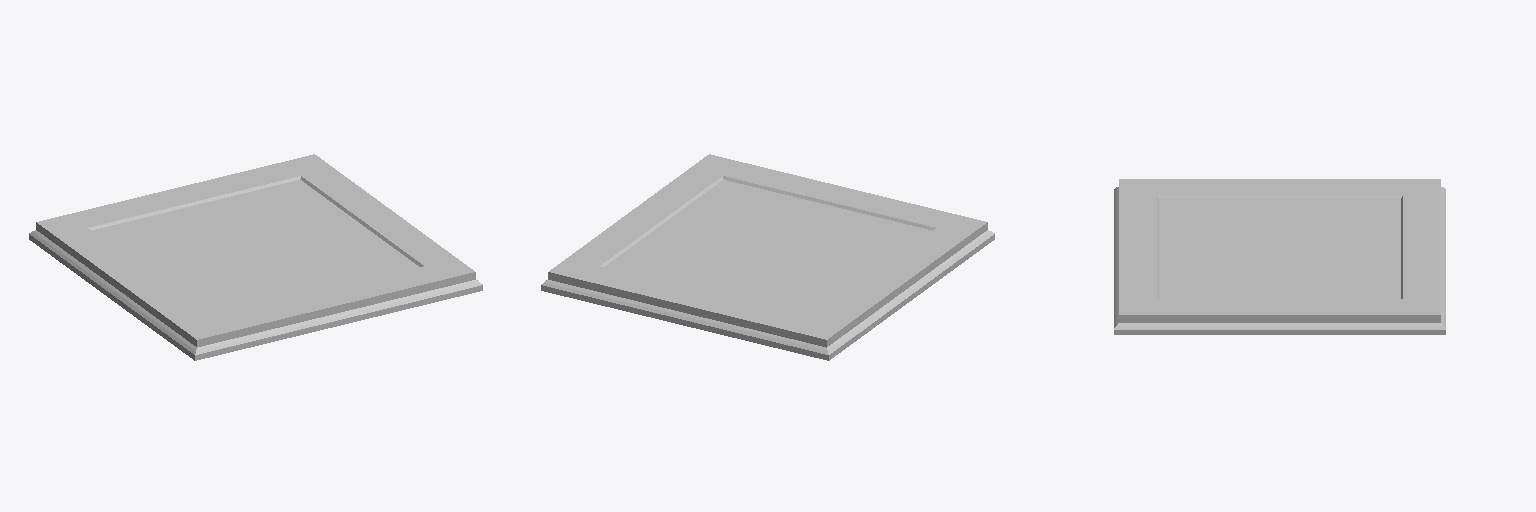
File: border.obj
The picture shows the model from 3 angles: view 1: azimuth 30°, elevation 25°; view 2: azimuth 150°, elevation 25°; view 3: azimuth 270°, elevation 25°; orthographic projection.
Visible parts, largest first — view 1: Border_Plane.000; view 2: Border_Plane.000; view 3: Border_Plane.000.
Part boxes in pixels (left/top/right/bottom): Border_Plane.000: left=29, top=154, right=482, bottom=360; Border_Plane.000: left=541, top=154, right=994, bottom=360; Border_Plane.000: left=1114, top=179, right=1445, bottom=334.
Size of the model in its own units: 10.99 by 0.6539 by 10.99.